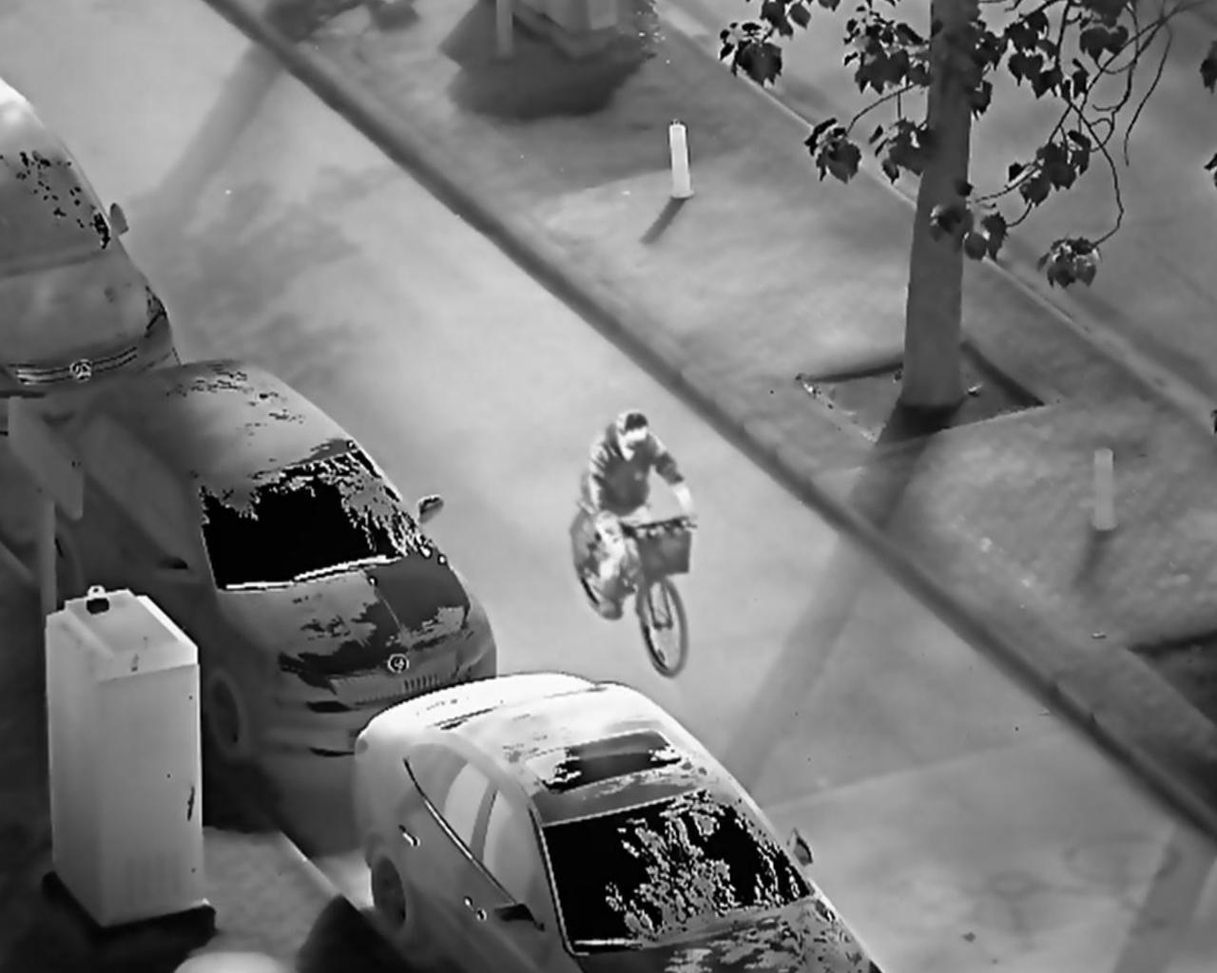person: (581, 409, 699, 625)
